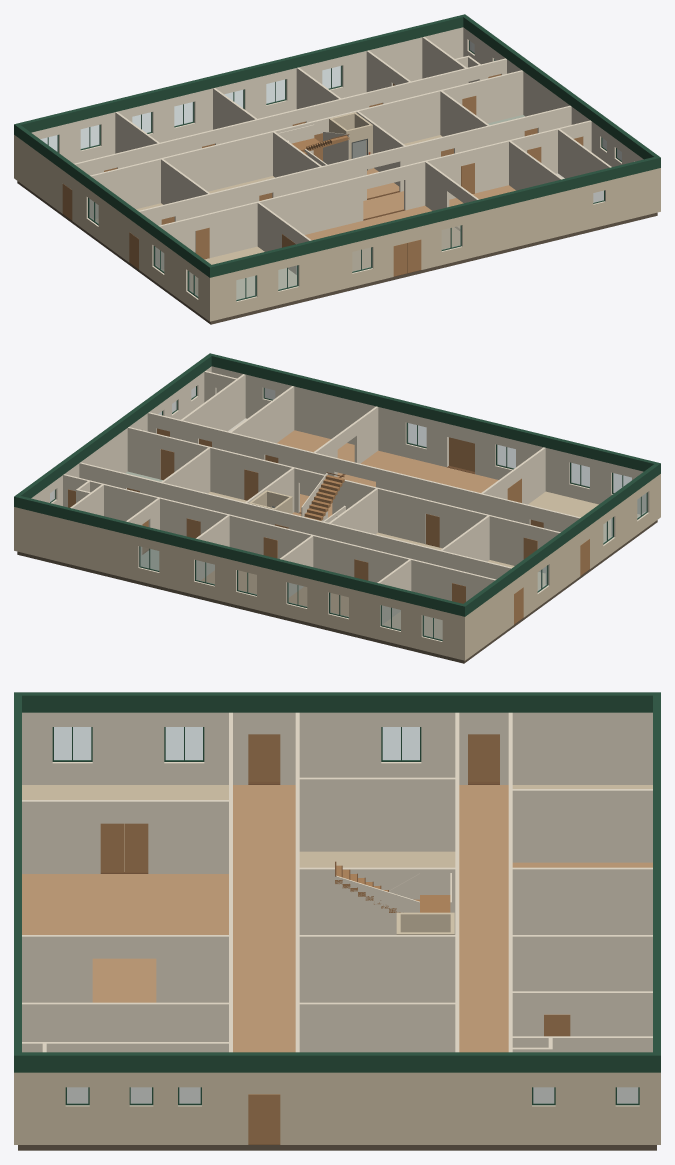
File: building-L1.glb
3 renders of one model, top to bottom at view 1: azimuth 30°, elevation 25°; view 2: azimuth 150°, elevation 25°; view 3: azimuth 270°, elevation 25°, orthographic. The views are drawn at different scales.
Parts seen in each view (by area): view 1: FASCIA-L1, WALL-L1-027, WALL-L1-001, WALL-L1-000, WALL-L1-016, WALL-L1-005, WALL-L1-017, WALL-L1-028, WALL-L1-029, SLAB-L1, WALL-L1-018, WALL-L1-030 (+37 smaller); view 2: FASCIA-L1, WALL-L1-027, WALL-L1-001, WALL-L1-000, WALL-L1-016, WALL-L1-005, WALL-L1-012, WALL-L1-011, WALL-L1-028, WALL-L1-029, ROOM-L1-LOBBY, SLAB-L1 (+36 smaller); view 3: FASCIA-L1, WALL-L1-049, ROOM-L1-CORR, ROOM-L1-LOBBY, WALL-L1-048, WALL-L1-028, ROOM-L1-NCORR, WALL-L1-031, WALL-L1-030, WALL-L1-029, WALL-L1-039, WALL-L1-032 (+33 smaller).
Boxes of the visible parts, <box> form: FASCIA-L1: <box>14,14,660,277</box>; WALL-L1-027: <box>14,27,463,179</box>; WALL-L1-001: <box>421,168,660,269</box>; WALL-L1-000: <box>207,233,393,321</box>; WALL-L1-016: <box>90,121,313,218</box>; WALL-L1-005: <box>209,176,363,257</box>; WALL-L1-017: <box>327,85,462,143</box>; WALL-L1-028: <box>139,226,207,319</box>; WALL-L1-029: <box>72,177,129,262</box>; SLAB-L1: <box>17,181,657,324</box>; WALL-L1-018: <box>475,70,523,123</box>; WALL-L1-030: <box>16,136,62,213</box>; FASCIA-L1: <box>14,353,660,616</box>; WALL-L1-027: <box>14,507,467,660</box>; WALL-L1-001: <box>211,366,448,467</box>; WALL-L1-000: <box>475,430,660,518</box>; WALL-L1-016: <box>288,513,512,579</box>; WALL-L1-005: <box>376,468,530,524</box>; WALL-L1-012: <box>332,479,426,543</box>; WALL-L1-011: <box>439,503,524,565</box>; WALL-L1-028: <box>590,475,658,568</box>; WALL-L1-029: <box>523,533,580,617</box>; ROOM-L1-LOBBY: <box>341,450,498,492</box>; SLAB-L1: <box>17,520,657,663</box>; FASCIA-L1: <box>14,692,660,1072</box>; WALL-L1-049: <box>280,1072,652,1144</box>; ROOM-L1-CORR: <box>233,785,295,1052</box>; ROOM-L1-LOBBY: <box>22,874,228,1002</box>; WALL-L1-048: <box>22,1072,248,1144</box>; WALL-L1-028: <box>22,712,248,784</box>; ROOM-L1-NCORR: <box>459,785,508,1052</box>; WALL-L1-031: <box>297,777,458,851</box>; WALL-L1-030: <box>500,712,652,784</box>; WALL-L1-029: <box>280,712,467,784</box>; WALL-L1-039: <box>295,935,458,1002</box>; WALL-L1-032: <box>509,789,652,862</box>.
Bounding box in the file's own units: 32.3 × 4.3 × 24.3.
